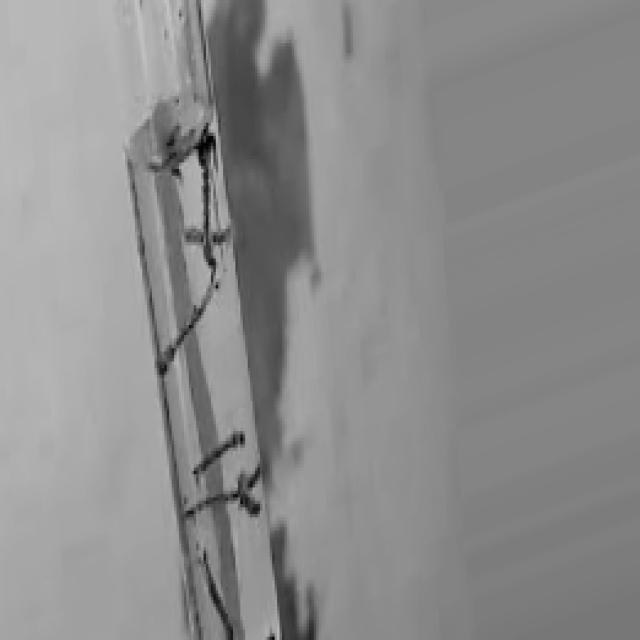larvas: (154, 280, 219, 380), (199, 553, 233, 640), (194, 427, 244, 476), (182, 493, 260, 513), (201, 155, 214, 265), (149, 148, 179, 178), (170, 145, 195, 181), (185, 226, 227, 245), (195, 129, 216, 156), (238, 466, 258, 487), (165, 124, 181, 150)
